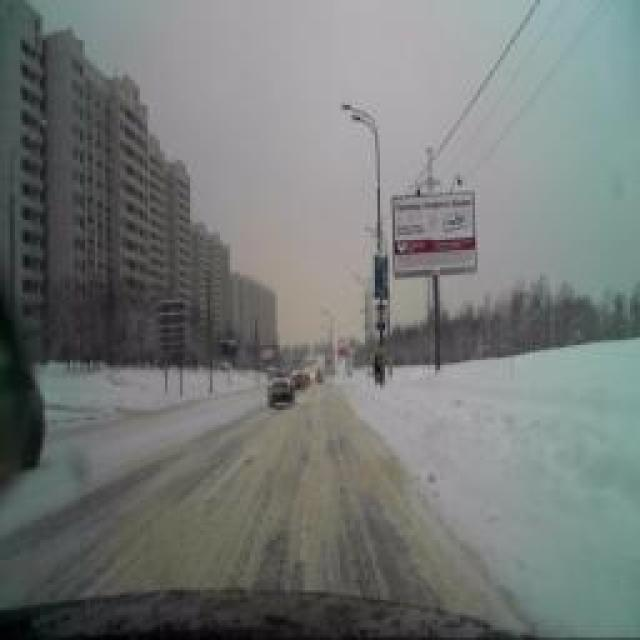sign: (374, 305, 386, 333)
